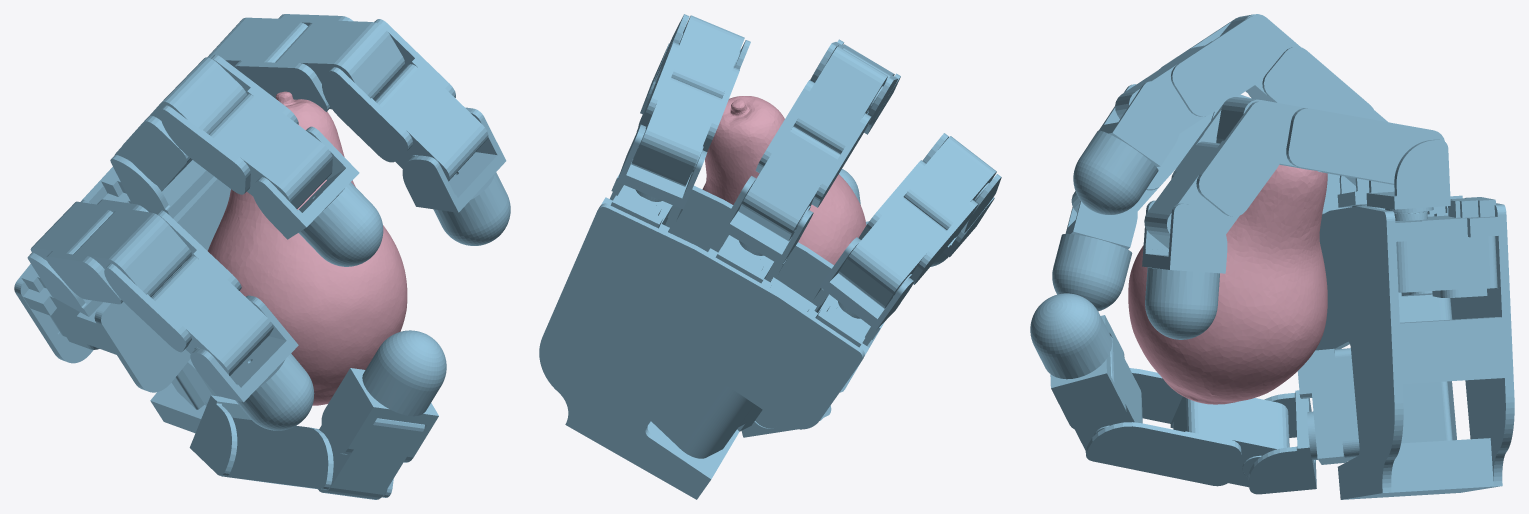
3 views of the same model, side by side, from view 1: azimuth 30°, elevation 25°; view 2: azimuth 150°, elevation 25°; view 3: azimuth 270°, elevation 25° (orthographic). The views are drawn at different scales.
Parts seen in each view (by area): view 1: world, pear.stl; view 2: world, pear.stl; view 3: world, pear.stl.
Part boxes in pixels (left/top/right/bottom): world: left=14, top=14, right=510, bottom=499; pear.stl: left=208, top=91, right=407, bottom=405; world: left=539, top=14, right=1001, bottom=499; pear.stl: left=702, top=96, right=866, bottom=264; world: left=1030, top=14, right=1514, bottom=499; pear.stl: left=1128, top=164, right=1327, bottom=404.
Size of the model in its own units: 0.1526 by 0.1646 by 0.1594.
